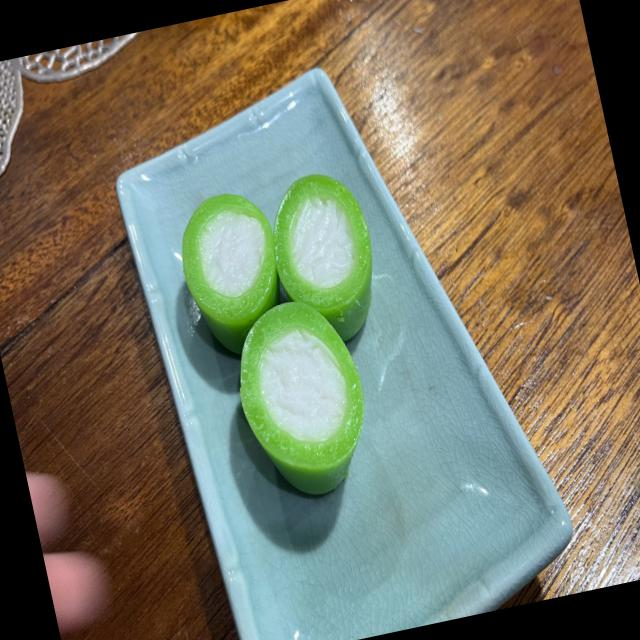nona-manis: (240, 301, 364, 494), (273, 173, 372, 340), (182, 193, 280, 354)
